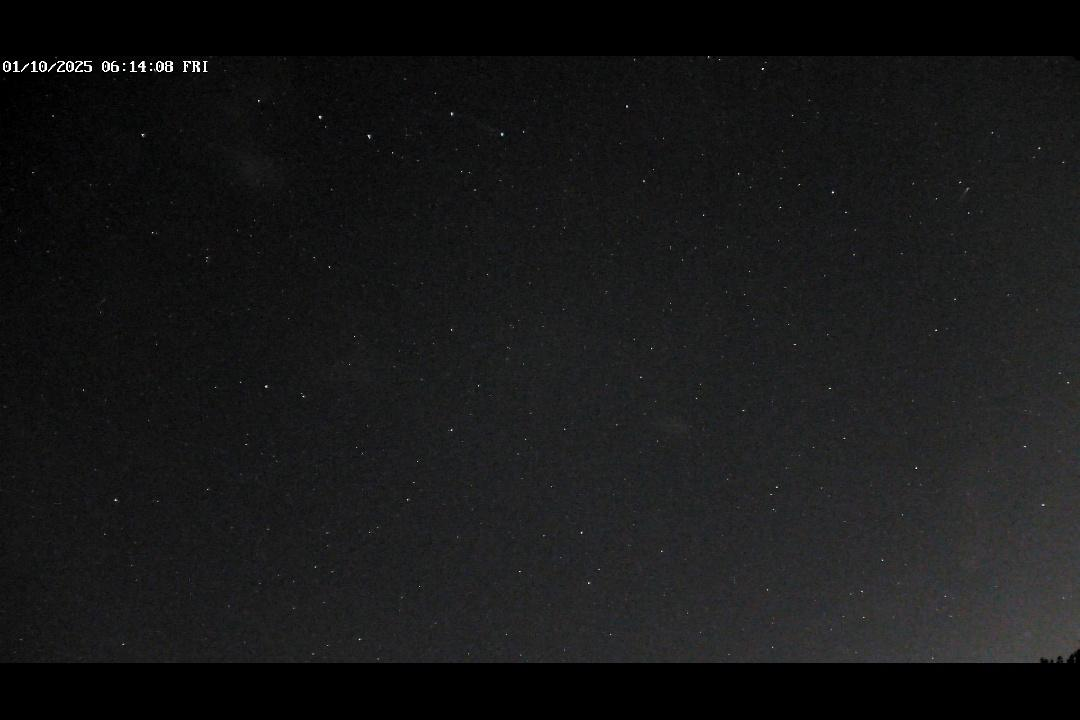Plane: (949, 183, 976, 212), (482, 124, 511, 141)
